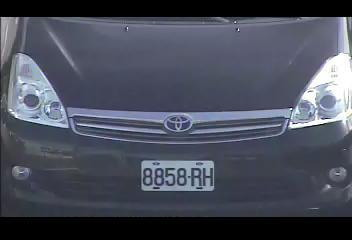plate: (140, 158, 216, 192)
